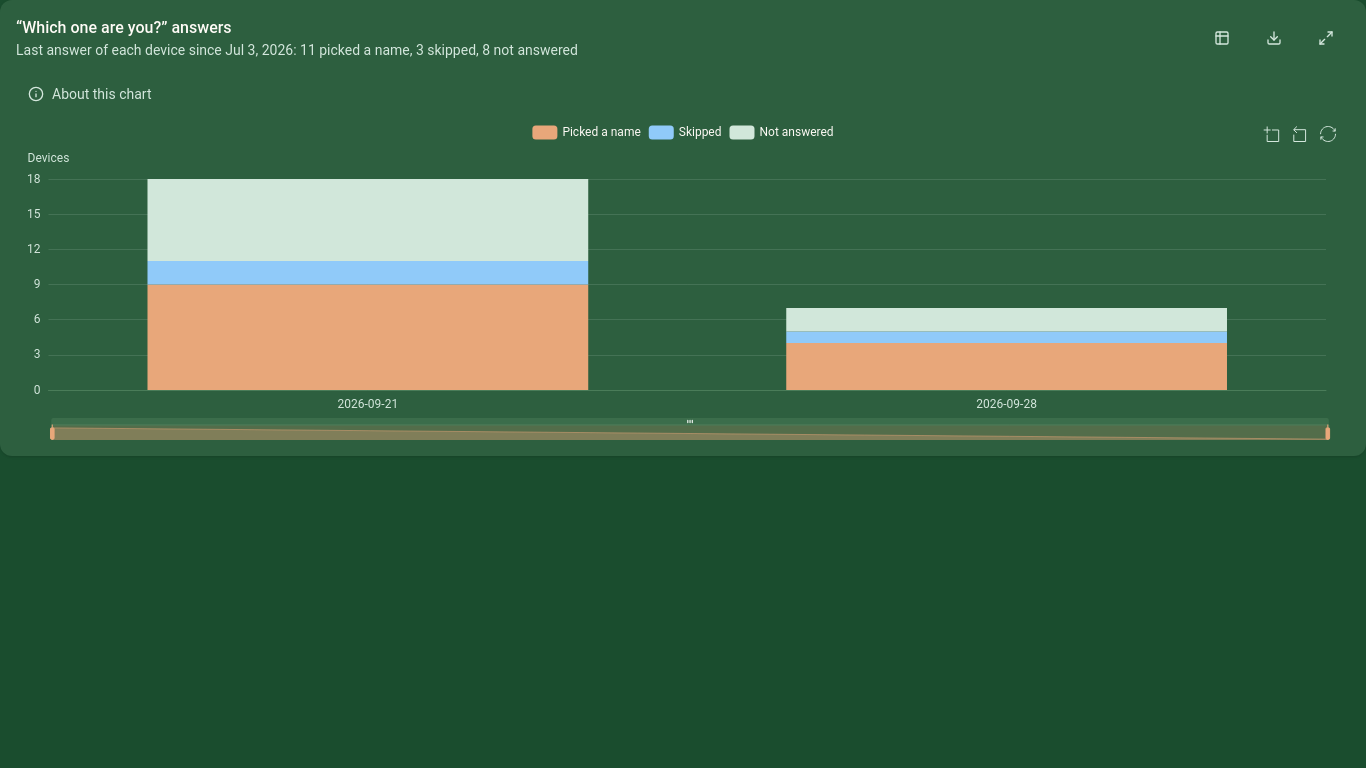
UptakeCard › stacks the answers per week and sums up each device’s last answer
Check: the button named "Table" is shown, box [1198, 16, 1246, 60]
Check: the button named "CSV" is shown, box [1250, 16, 1298, 60]
Step 1. Click the button "About this chart" → (90, 94), box [16, 72, 164, 116]
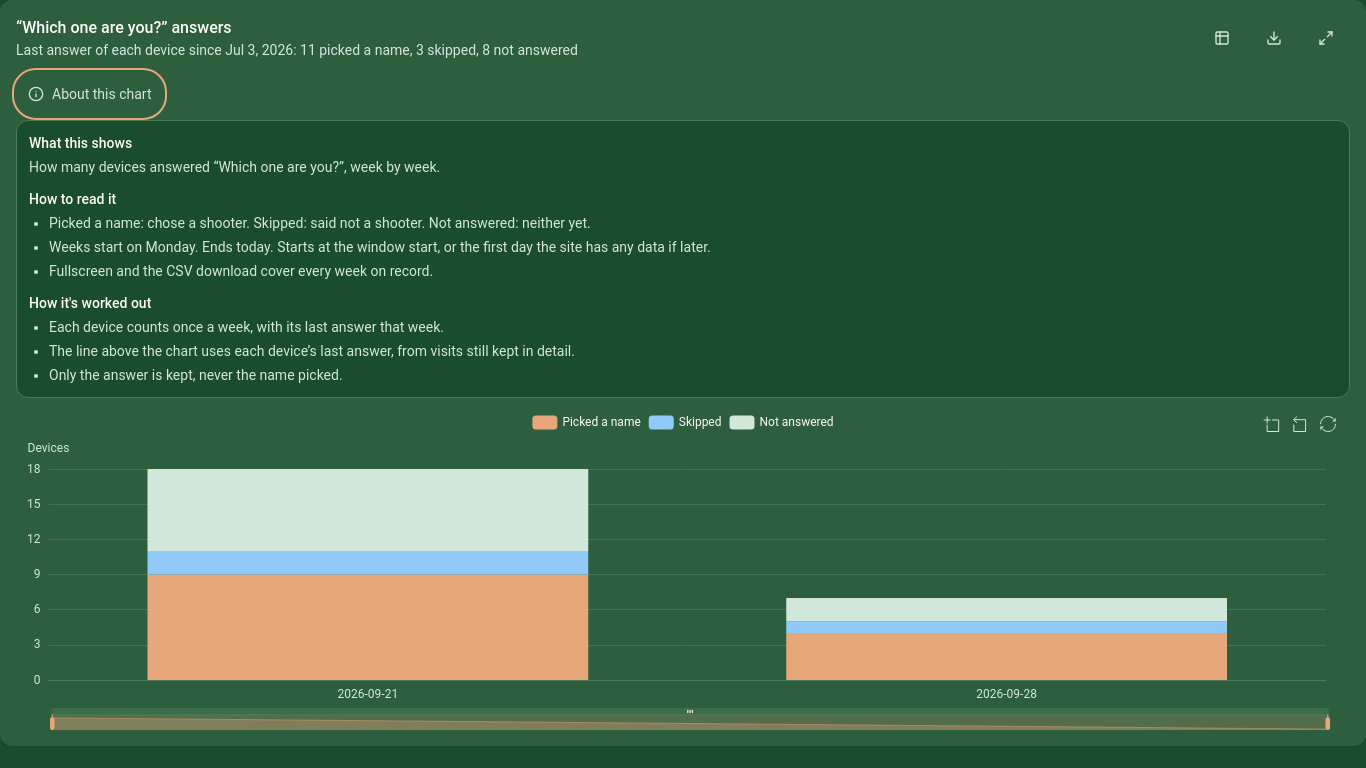
Check: the button "About this chart" is expanded
Check: the heading "What this shows" is shown, box [29, 135, 132, 151]
Check: the heading "How it's worked out" is shown, box [29, 295, 151, 311]
Step 2. Click the button "About this chart" → (90, 94), box [16, 72, 164, 116]
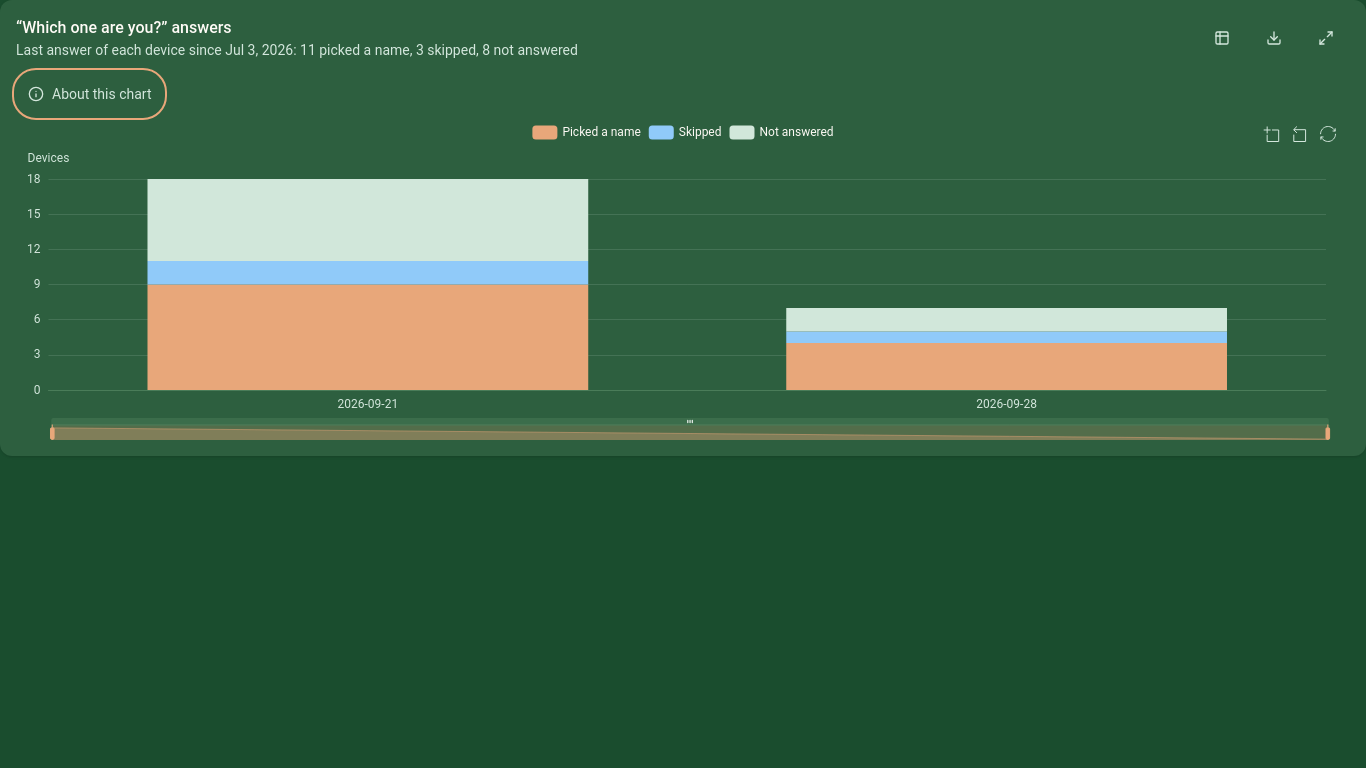
Check: the text "Last answer of each device since Jul 3, 2026: 11 picked a name, 3 skipped, 8 not answered" is shown, box [16, 42, 578, 58]
Check: the heading "What this shows" is gone
